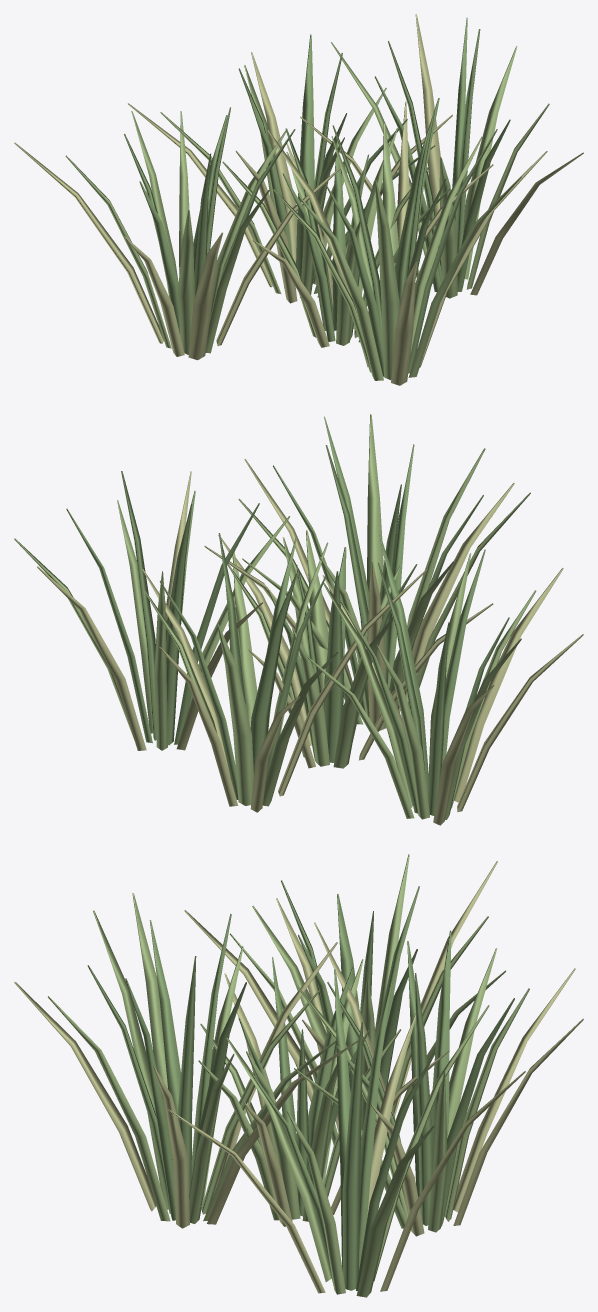
File: campo_grass_8.glb
3 views of the same model, one above another, from view 1: azimuth 30°, elevation 25°; view 2: azimuth 150°, elevation 25°; view 3: azimuth 270°, elevation 25° (orthographic). The views are drawn at different scales.
Visible parts, largest first — view 1: CampoGrassFresh, CampoGrassDeep, CampoGrassGold; view 2: CampoGrassFresh, CampoGrassDeep, CampoGrassGold; view 3: CampoGrassDeep, CampoGrassFresh, CampoGrassGold.
Boxes of the visible parts, left/top/right/bottom form: CampoGrassFresh: left=65, top=42, right=549, bottom=380; CampoGrassDeep: left=124, top=17, right=510, bottom=376; CampoGrassGold: left=14, top=14, right=583, bottom=385; CampoGrassFresh: left=14, top=414, right=536, bottom=819; CampoGrassDeep: left=66, top=416, right=509, bottom=815; CampoGrassGold: left=37, top=459, right=583, bottom=825; CampoGrassDeep: left=87, top=880, right=514, bottom=1290; CampoGrassFresh: left=48, top=854, right=529, bottom=1297; CampoGrassGold: left=14, top=861, right=583, bottom=1293.
Size of the model in its own units: 1.32 by 0.6552 by 1.19.
